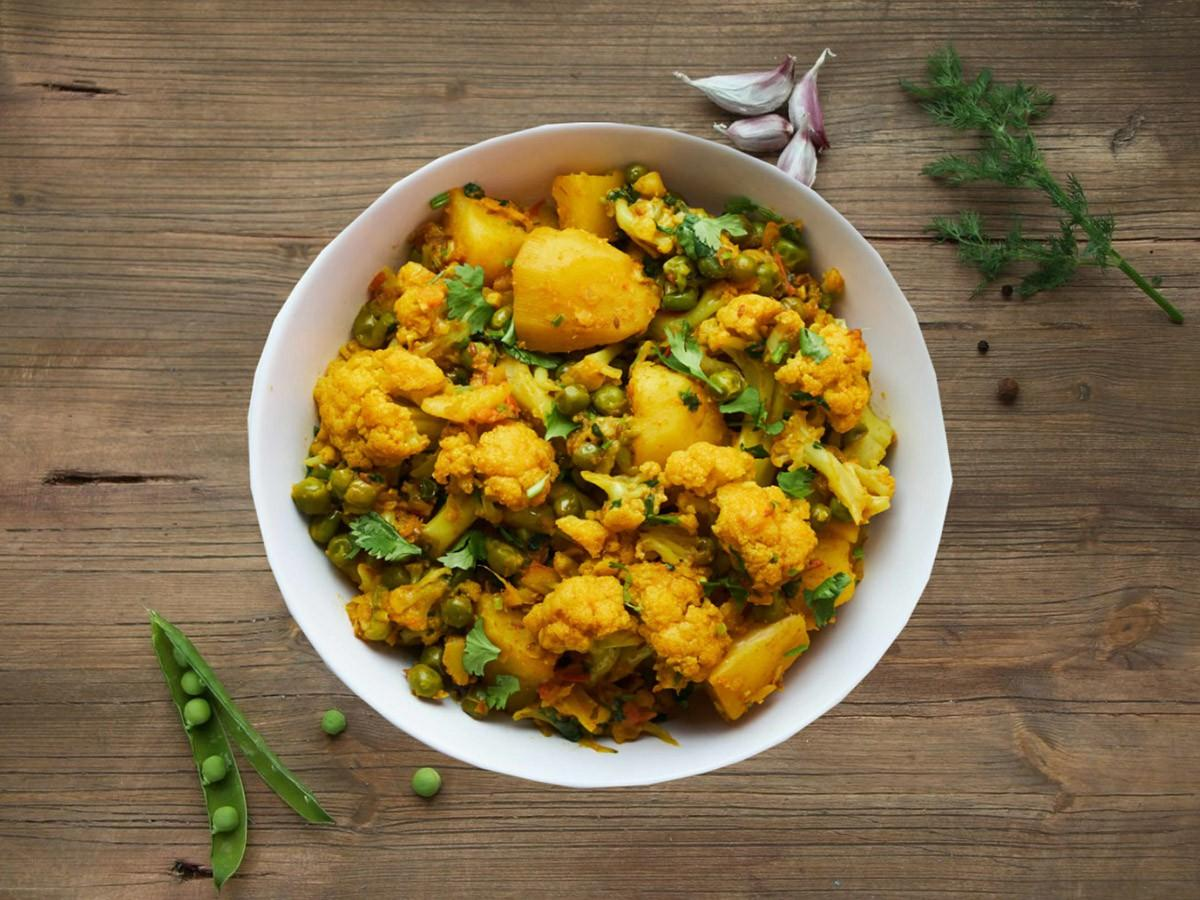AlooGobi: (289, 160, 900, 750)
